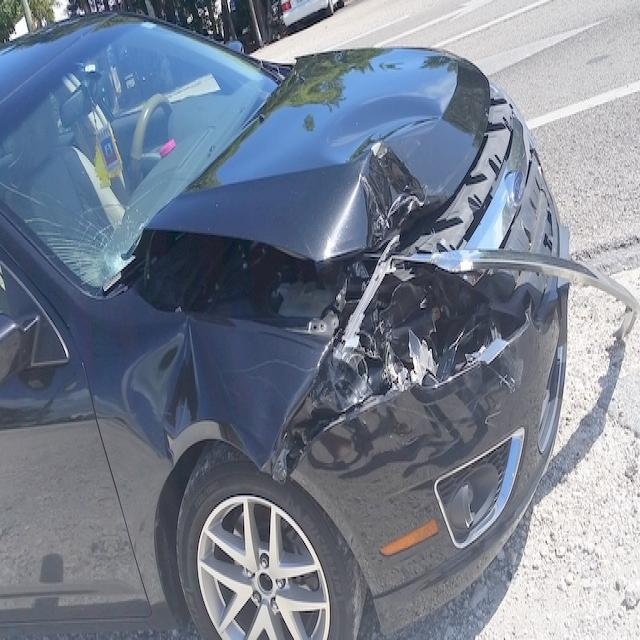crush: (0, 49, 567, 488)
